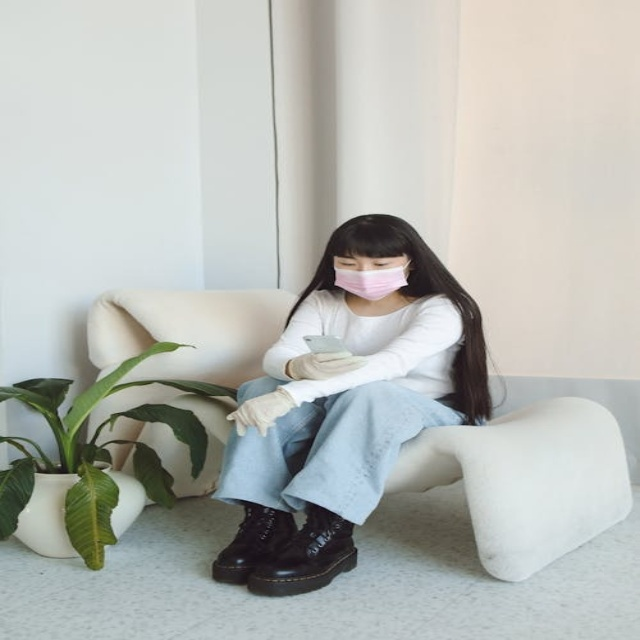Guantes: (226, 388, 298, 436), (290, 350, 367, 381)
Mascara: (333, 260, 410, 300)
Sin_gafas: (332, 253, 401, 268)
